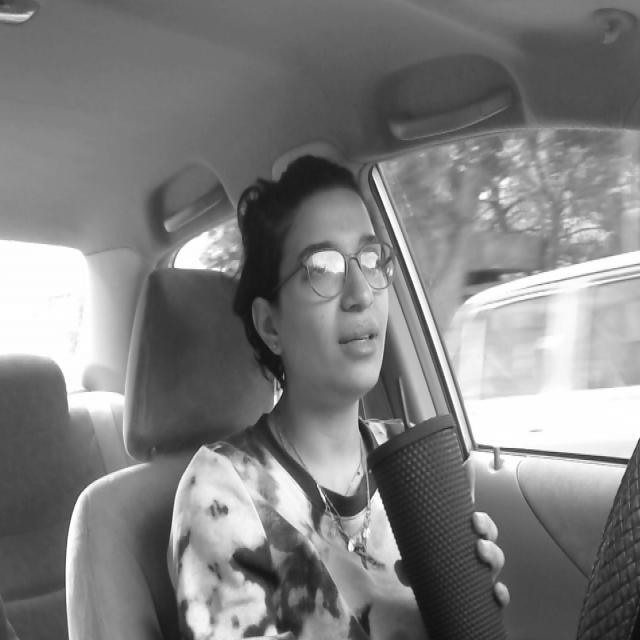Drinking: (366, 414, 508, 637)
